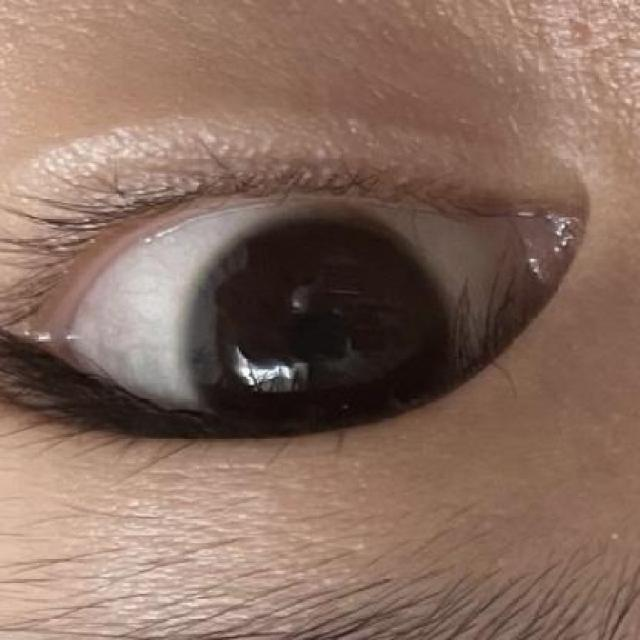Normal: (186, 215, 459, 470)
